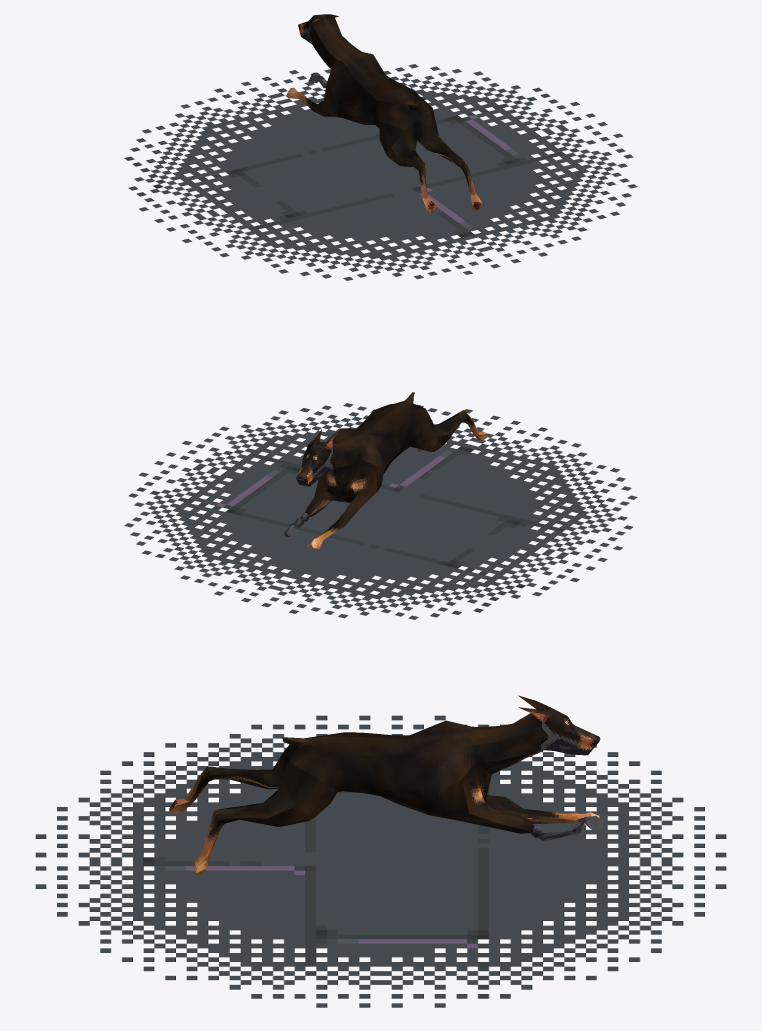
File: Dog.glb
The picture shows the model from 3 angles, top to bottom: view 1: azimuth 30°, elevation 25°; view 2: azimuth 150°, elevation 25°; view 3: azimuth 270°, elevation 25°; orthographic projection. The views are drawn at different scales.
Parts seen in each view (by area): view 1: Object_421, Lo_Doberman; view 2: Object_421, Lo_Doberman; view 3: Object_421, Lo_Doberman.
Part boxes in pixels (bbox=[...]): Object_421: bbox=[124, 64, 637, 280]; Lo_Doberman: bbox=[287, 14, 482, 212]; Object_421: bbox=[124, 403, 637, 619]; Lo_Doberman: bbox=[284, 392, 488, 549]; Object_421: bbox=[35, 715, 726, 1007]; Lo_Doberman: bbox=[169, 695, 604, 874].
Size of the model in its own units: 8.7 by 2.12 by 8.7.
2 materials, 2 textured.
